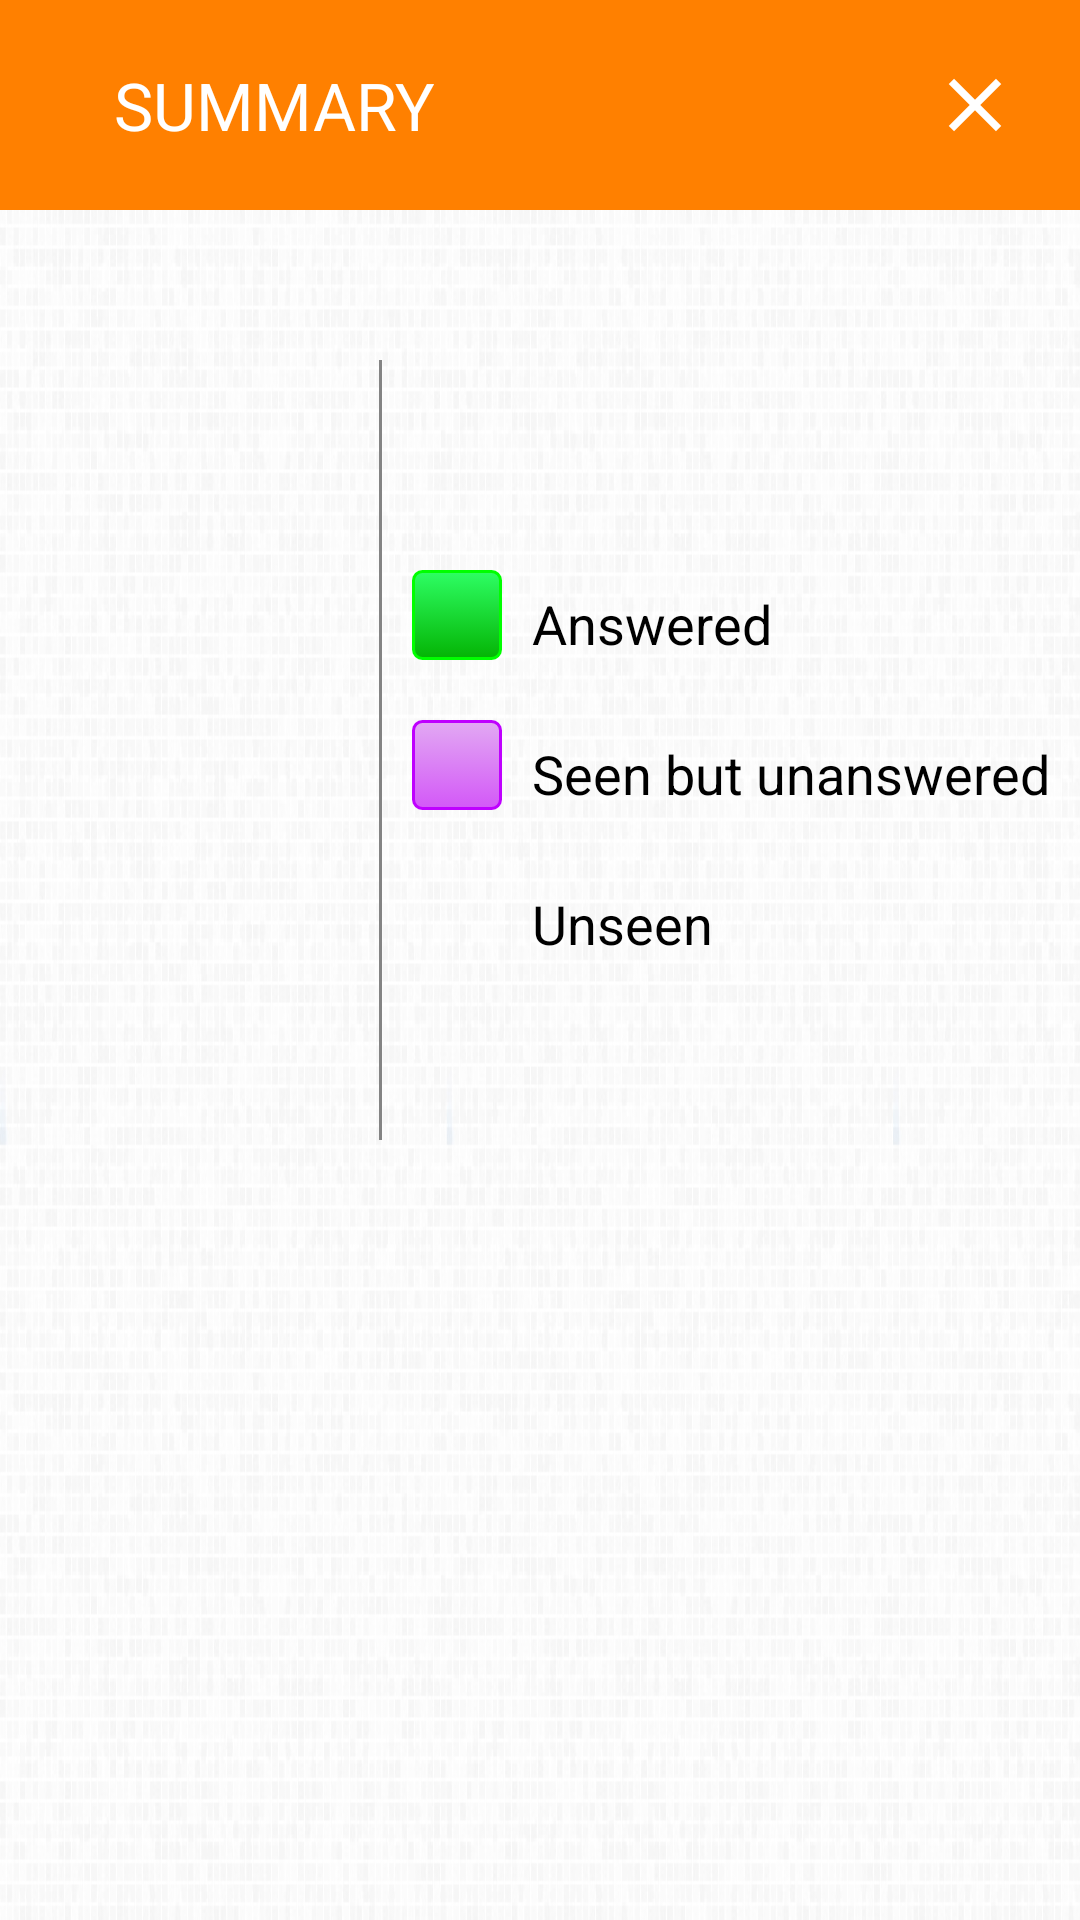

Icon bounding boxes for this 1080px×1920px phone screenshot, format (left=x1, top=y1, right=x2, bottom=y2):
close: (left=949, top=79, right=1001, bottom=131)
